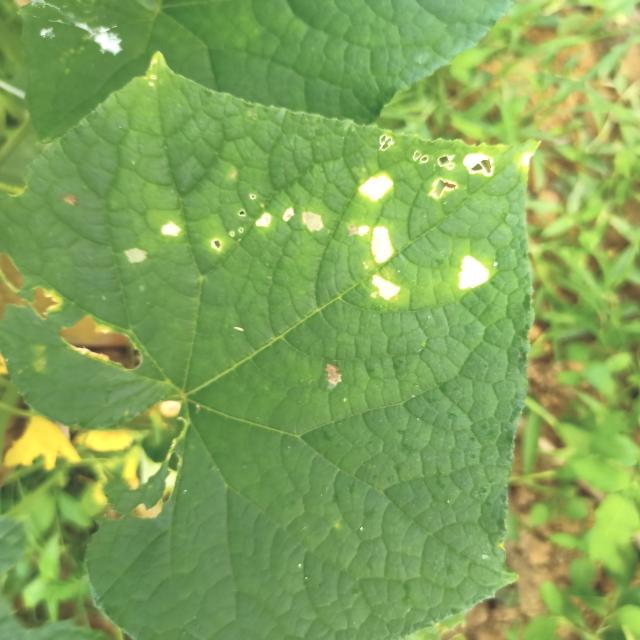disease_cucumber: (339, 132, 531, 316), (104, 161, 328, 288)
